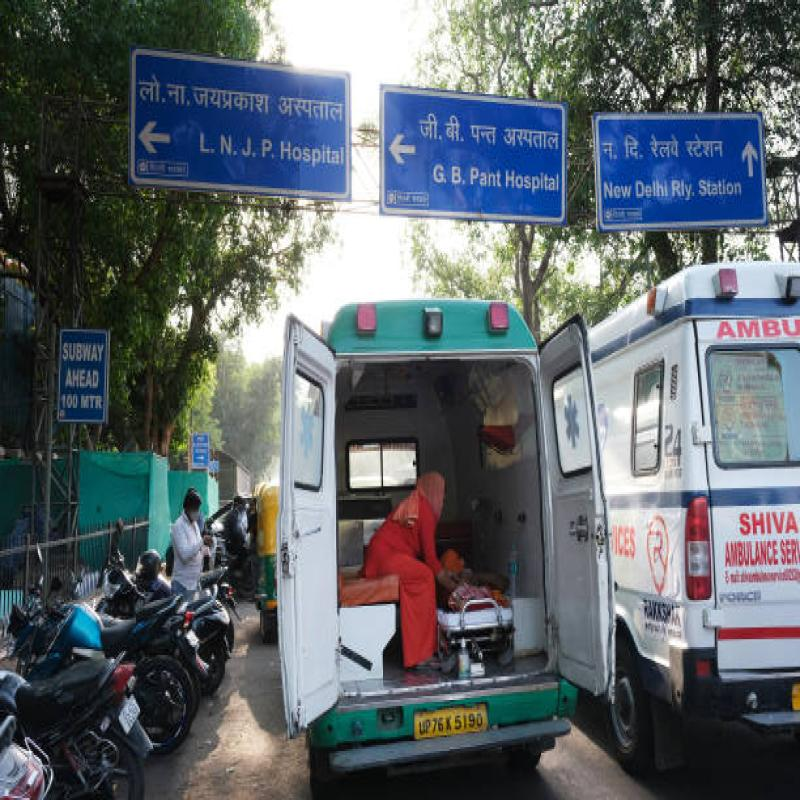ambulance: (287, 262, 589, 798), (602, 256, 800, 774)
